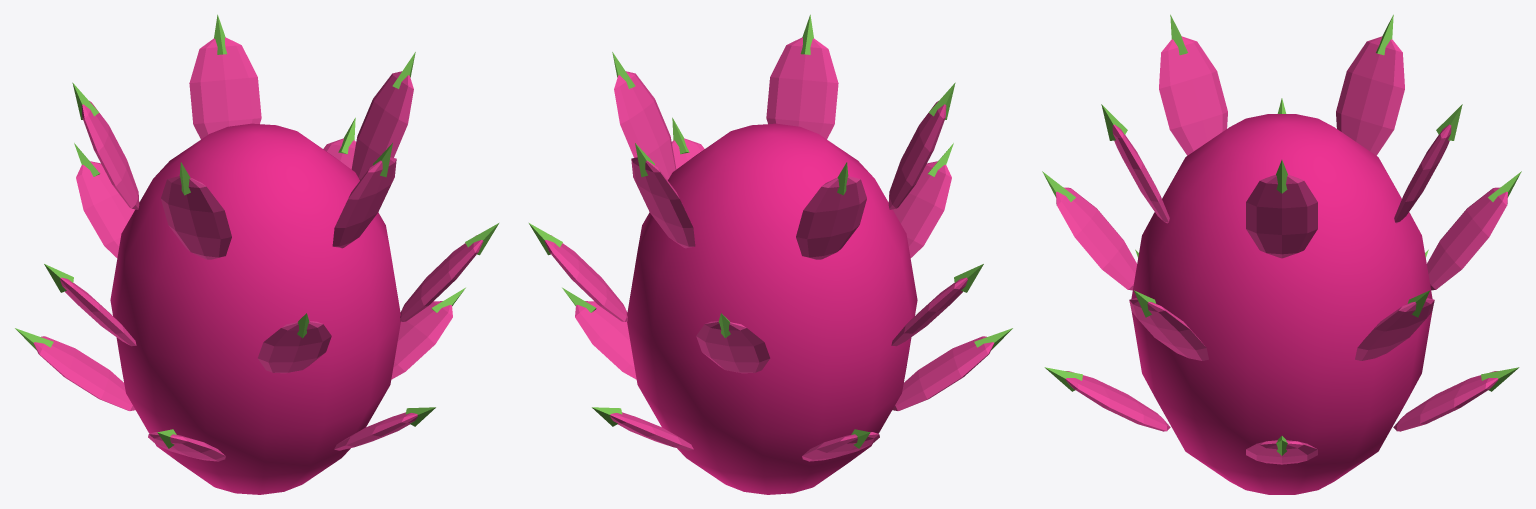
File: Fruto_DragonFruit.fbx
The picture shows the model from 3 angles, left to right: view 1: azimuth 30°, elevation 25°; view 2: azimuth 150°, elevation 25°; view 3: azimuth 270°, elevation 25°; orthographic projection. The views are drawn at different scales.
Parts seen in each view (by area): view 1: Produto_DragonFruit, Cabo_DragonFruit; view 2: Produto_DragonFruit, Cabo_DragonFruit; view 3: Produto_DragonFruit, Cabo_DragonFruit.
Part boxes in pixels (bbox=[...]): Produto_DragonFruit: bbox=[33, 37, 483, 494]; Cabo_DragonFruit: bbox=[15, 14, 498, 448]; Produto_DragonFruit: bbox=[544, 37, 994, 494]; Cabo_DragonFruit: bbox=[529, 14, 1012, 448]; Produto_DragonFruit: bbox=[1056, 36, 1507, 494]; Cabo_DragonFruit: bbox=[1042, 14, 1521, 455].
Size of the model in its own units: 1.19 by 1.06 by 1.14.
1 material, 1 textured.
